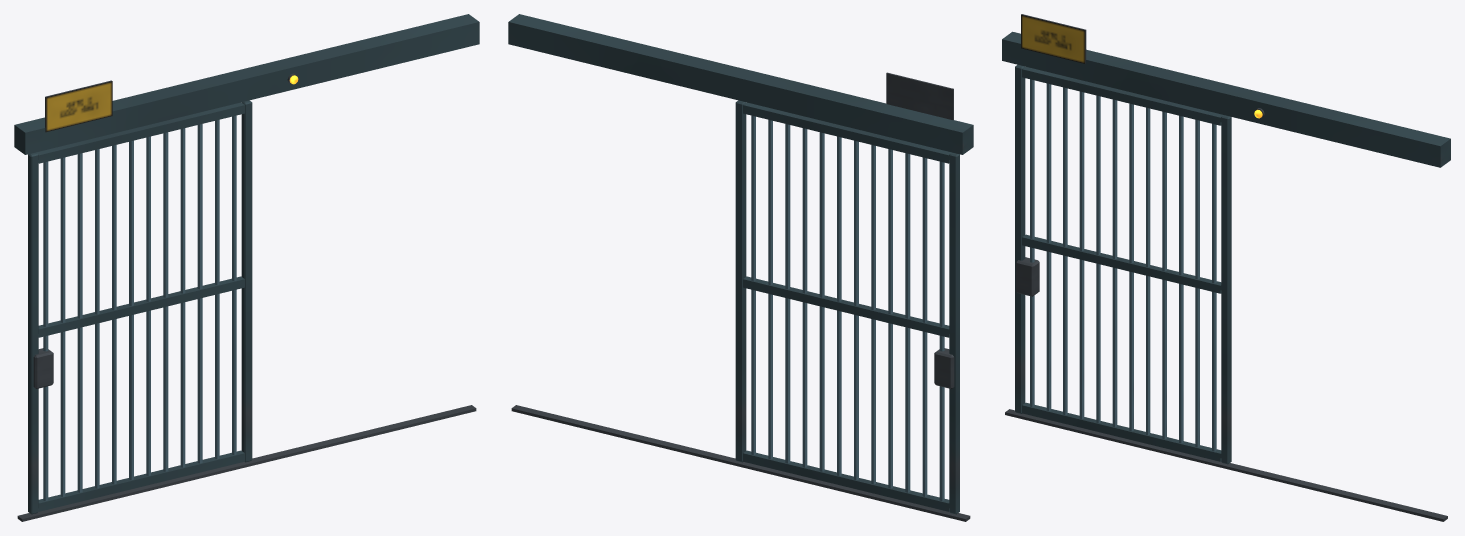
File: gate_barred.fbx
3 renders of one model, left to right at view 1: azimuth 30°, elevation 25°; view 2: azimuth 150°, elevation 25°; view 3: azimuth 330°, elevation 25°, orthographic. The views are drawn at different scales.
Visible parts, largest first — view 1: gate_barred_leaf, gate_barred, gate_barred_guide; view 2: gate_barred_leaf, gate_barred, gate_barred_guide; view 3: gate_barred_leaf, gate_barred, gate_barred_guide.
Boxes of the visible parts, left/top/right/bottom form: gate_barred_leaf: left=28, top=100, right=252, bottom=514; gate_barred: left=14, top=14, right=479, bottom=154; gate_barred_guide: left=17, top=405, right=476, bottom=521; gate_barred_leaf: left=735, top=100, right=959, bottom=514; gate_barred: left=508, top=14, right=973, bottom=154; gate_barred_guide: left=511, top=405, right=970, bottom=521; gate_barred_leaf: left=1015, top=64, right=1231, bottom=464; gate_barred: left=1002, top=14, right=1450, bottom=167; gate_barred_guide: left=1005, top=409, right=1447, bottom=521.
Bounding box in the file's own units: 3.4 × 3.02 × 0.179.
1 material, 1 textured.
